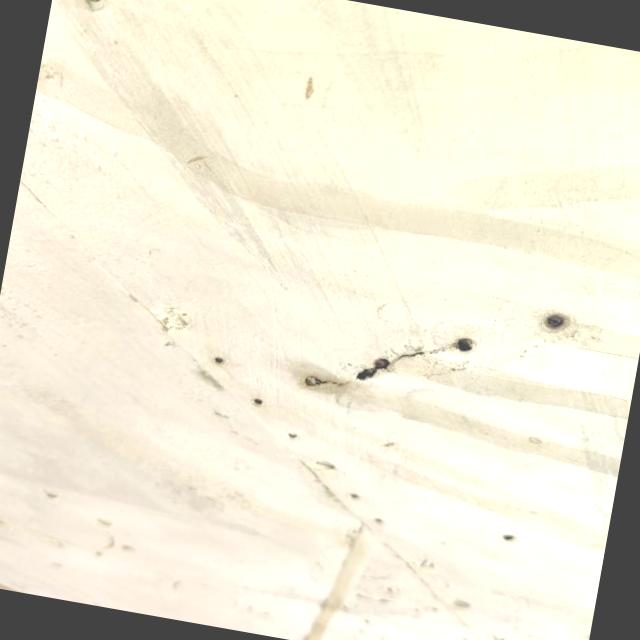Missing Fastener: (539, 300, 578, 339), (364, 512, 392, 530), (248, 392, 270, 411), (212, 354, 230, 369), (284, 428, 301, 442), (500, 530, 517, 542), (346, 488, 360, 501)
